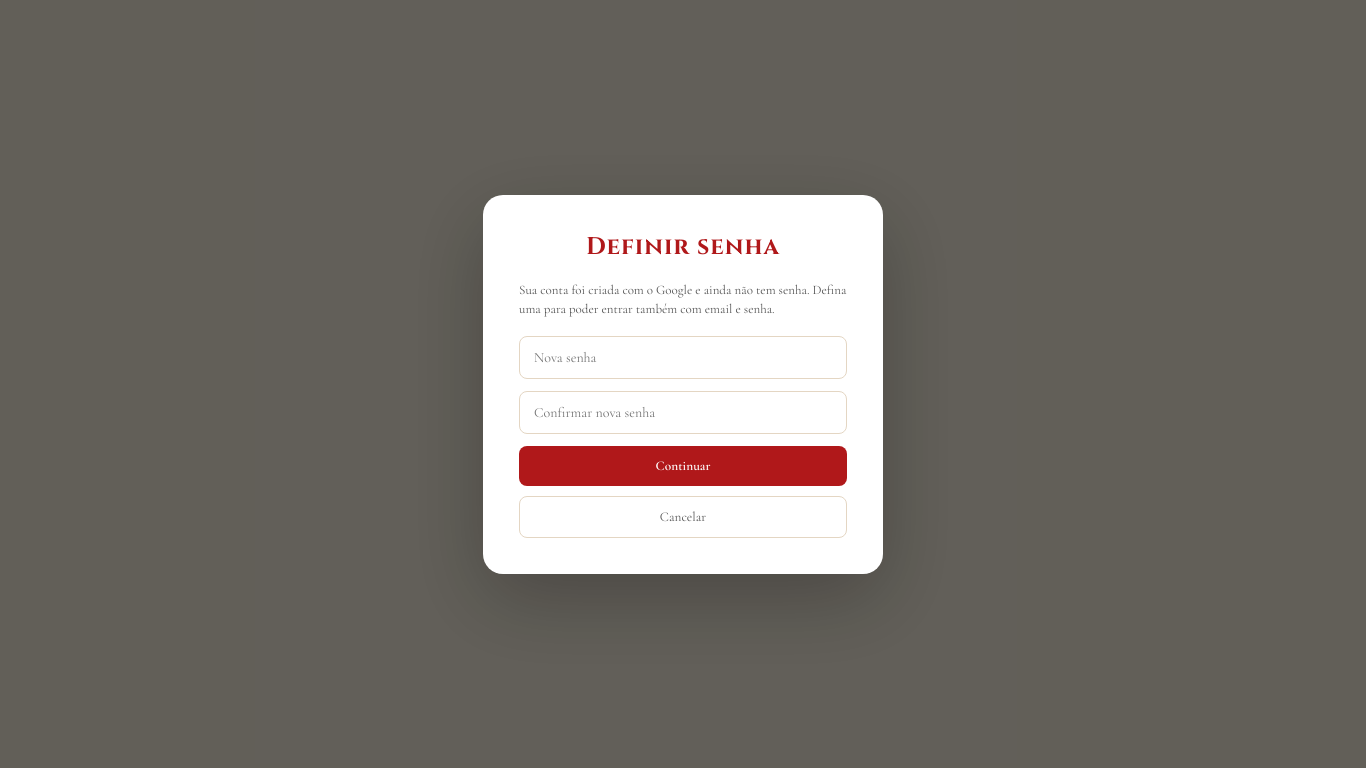
Scenario: SetPasswordModal › rejects mismatched passwords
Type "abcd1234" into the password field with placeholder "Nova senha" at (683, 357), box [519,336,847,378]
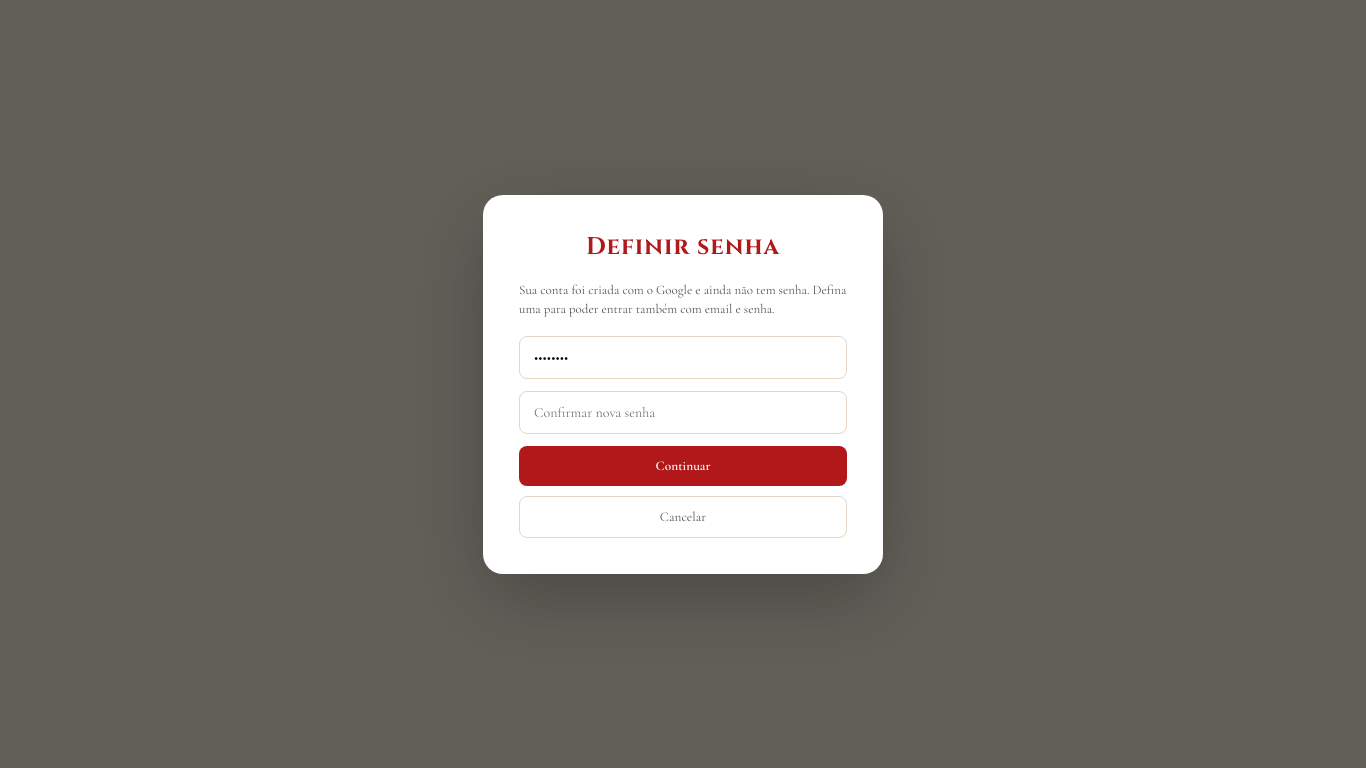
Type "abcd9999" into the password field with placeholder "Confirmar nova senha" at (683, 412), box [519,390,847,434]
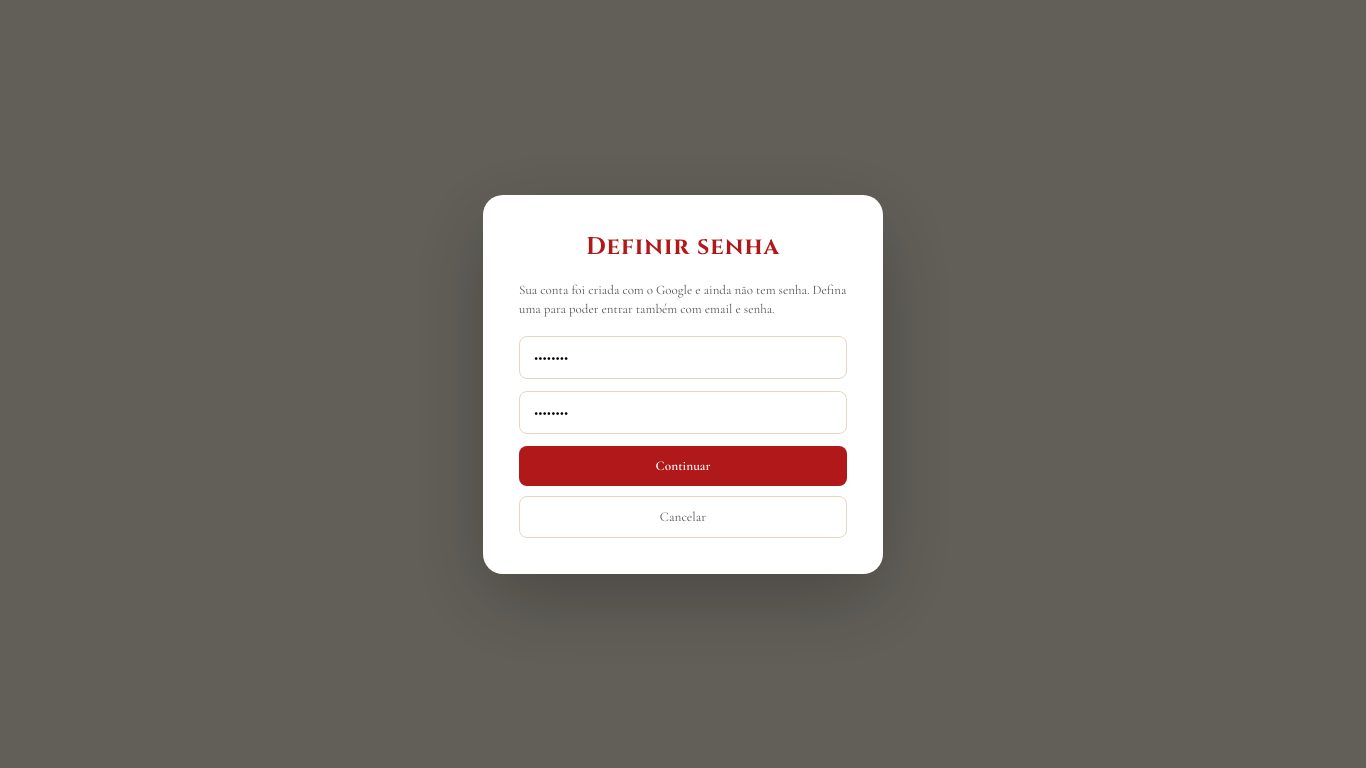
Click the button "Continuar" at (683, 466), box [519,446,847,486]
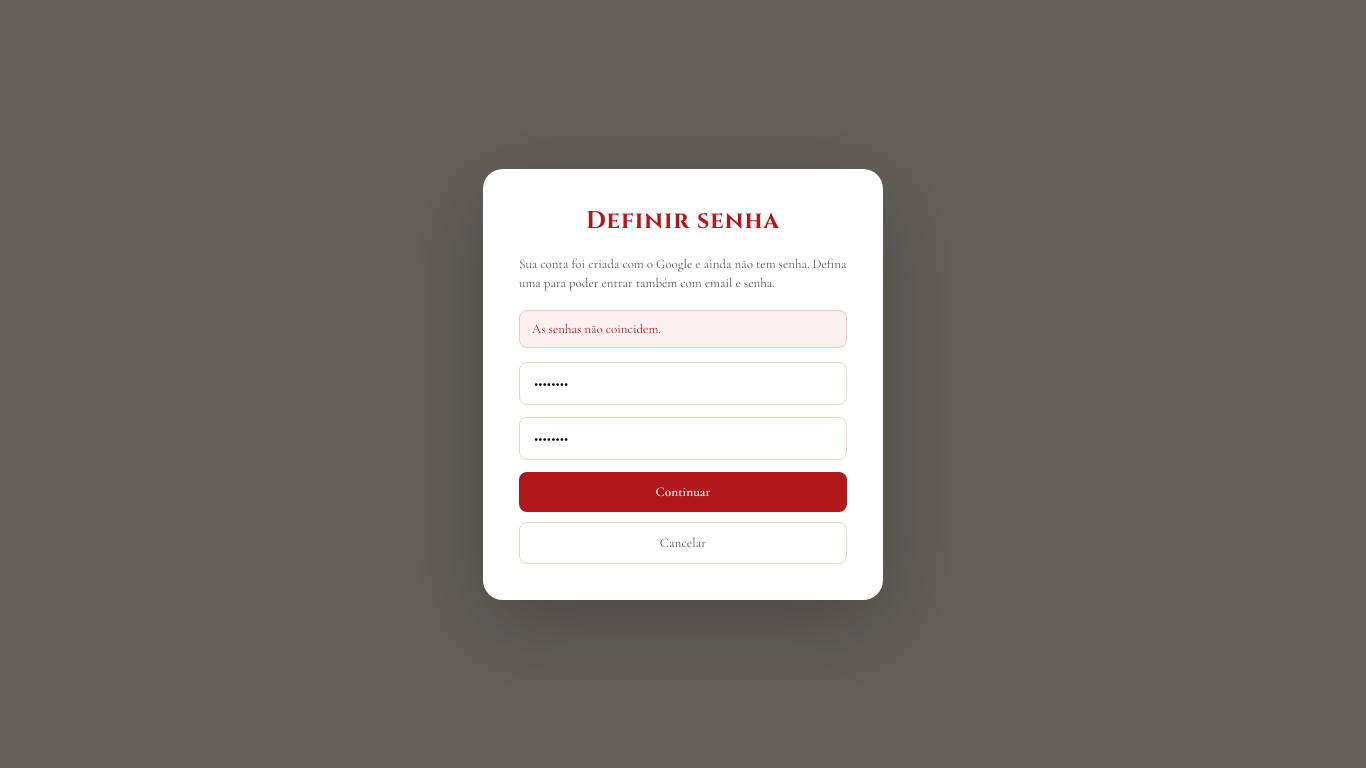
Check: the text "As senhas não coincidem." is shown, box [519,310,847,348]
